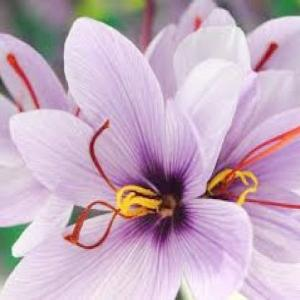Saffron: (9, 17, 252, 300)
